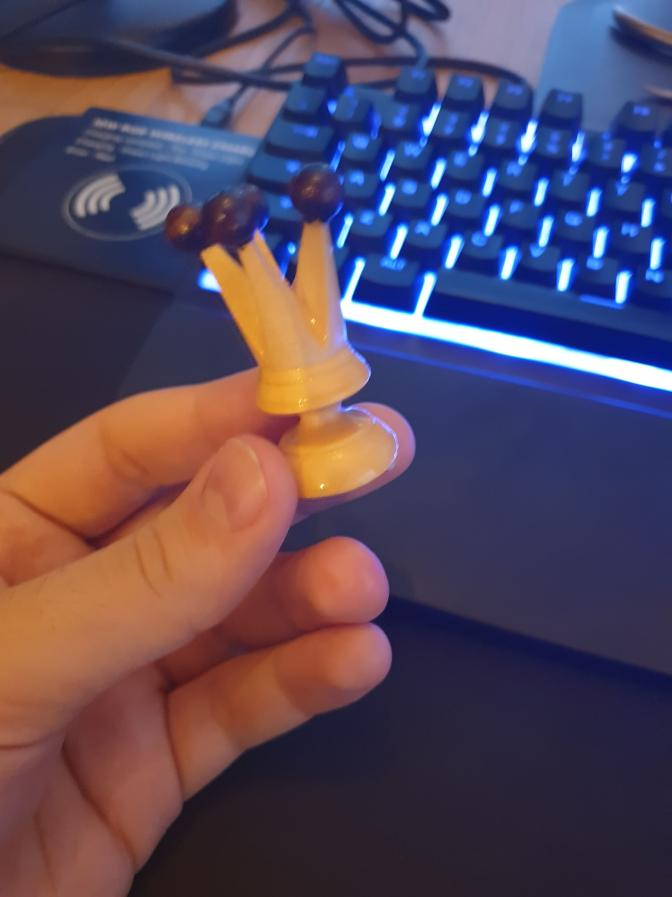wqueen: (165, 163, 397, 498)
